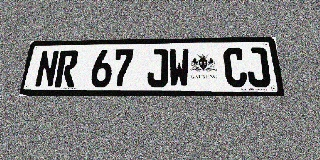6: (90, 50, 114, 87)
7: (111, 49, 134, 87)
C: (223, 48, 248, 87)
J: (245, 47, 271, 87), (147, 49, 168, 87)
N: (34, 50, 60, 88)
R: (54, 50, 79, 88)
W: (169, 49, 190, 87)
